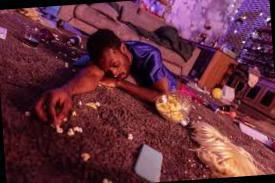Drunk: (100, 48, 129, 78)
